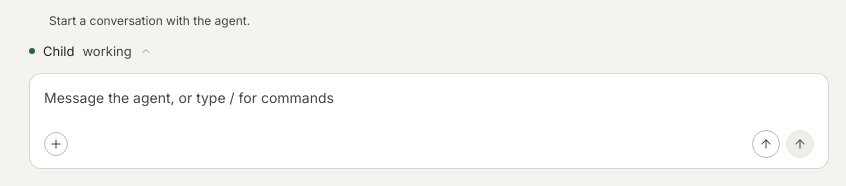
it: a provider task row in the subagent menu › opens a created child's session from its row and closes the menu
Click the button with test id "who-is-working": (90, 51) [21,37,160,65]
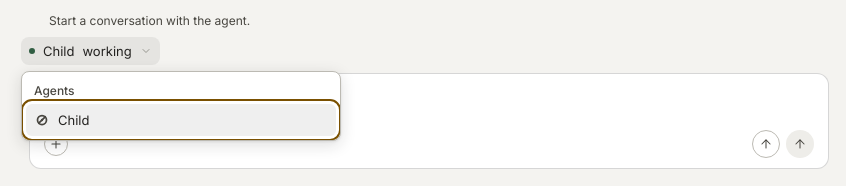
Check: the button with class "workspace-subagent-row" reads "Child"
Click the button with class "workspace-subagent-row": (74, 120) [26,104,336,136]
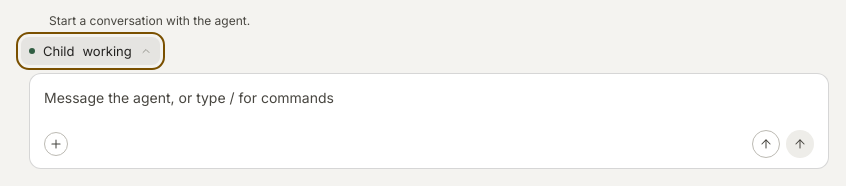
Check: the element with class "workspace-subagent-list" is gone
